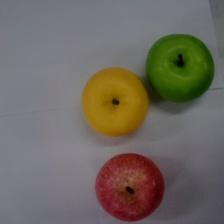green: (147, 33, 214, 102)
red: (95, 153, 165, 221)
yellow: (81, 67, 148, 137)
